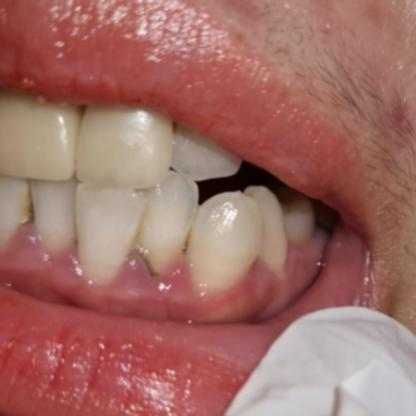Crowding: (81, 176, 193, 296), (194, 183, 291, 305)
